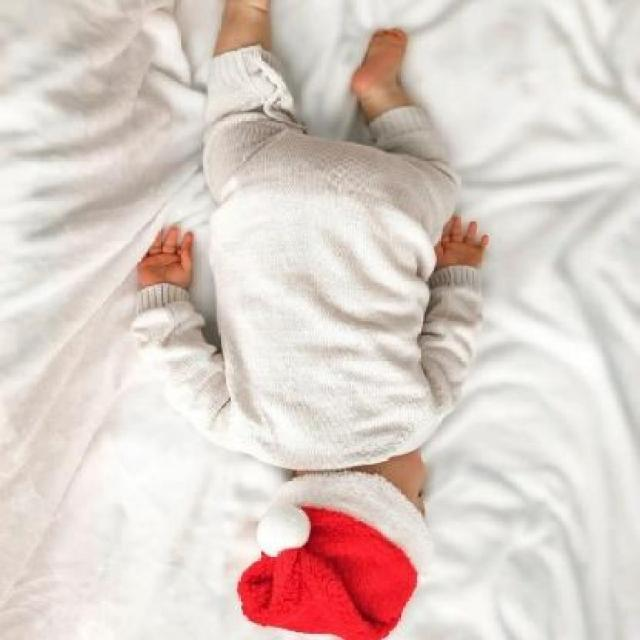baby: (133, 1, 489, 640)
